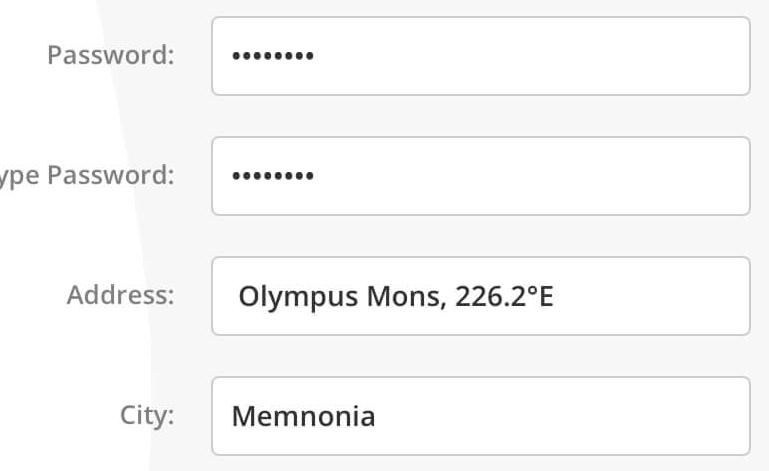field: (202, 131, 752, 218), (203, 12, 752, 98), (203, 373, 750, 458), (200, 256, 750, 337)
